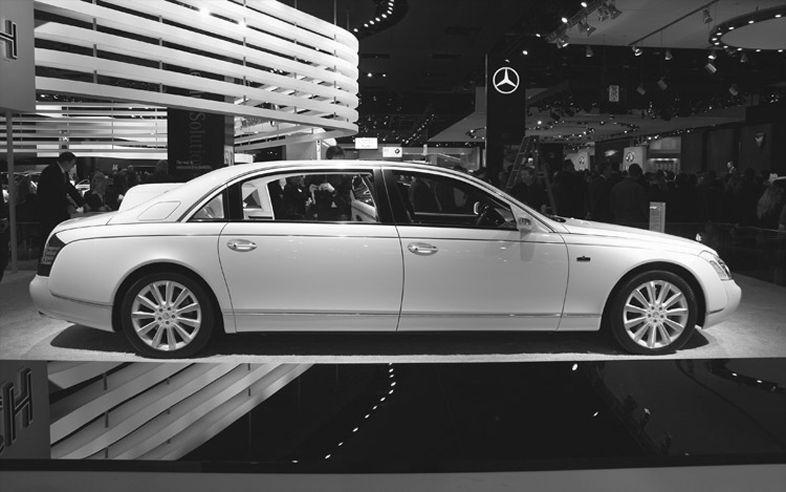car: (29, 158, 745, 354)
